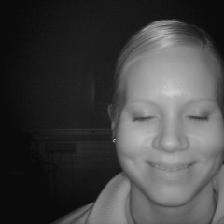happy: (107, 17, 224, 212)
